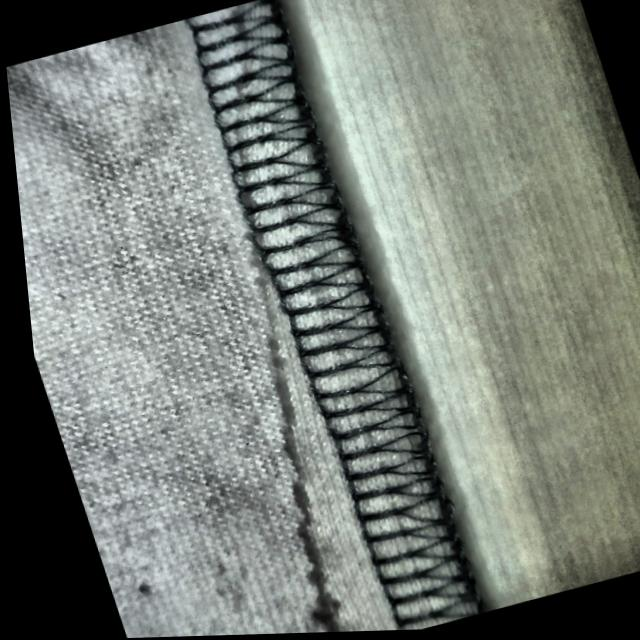seam: (161, 202, 475, 637)
